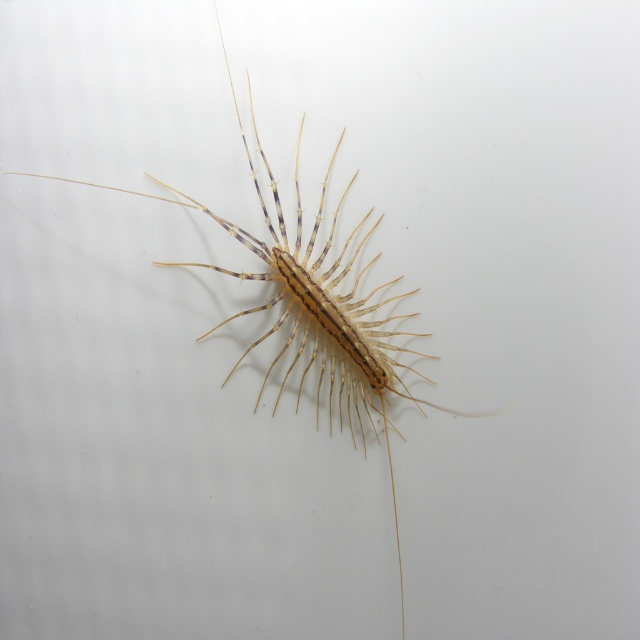Centipede: (0, 0, 504, 639)
